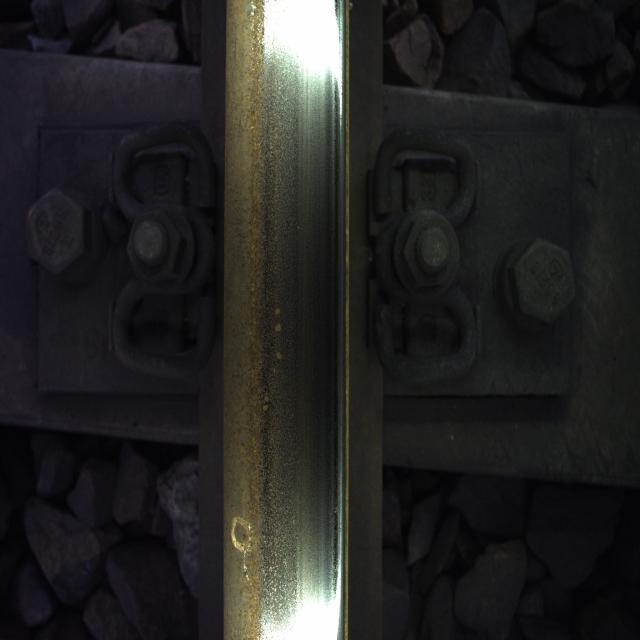scar: (230, 15, 301, 634)
